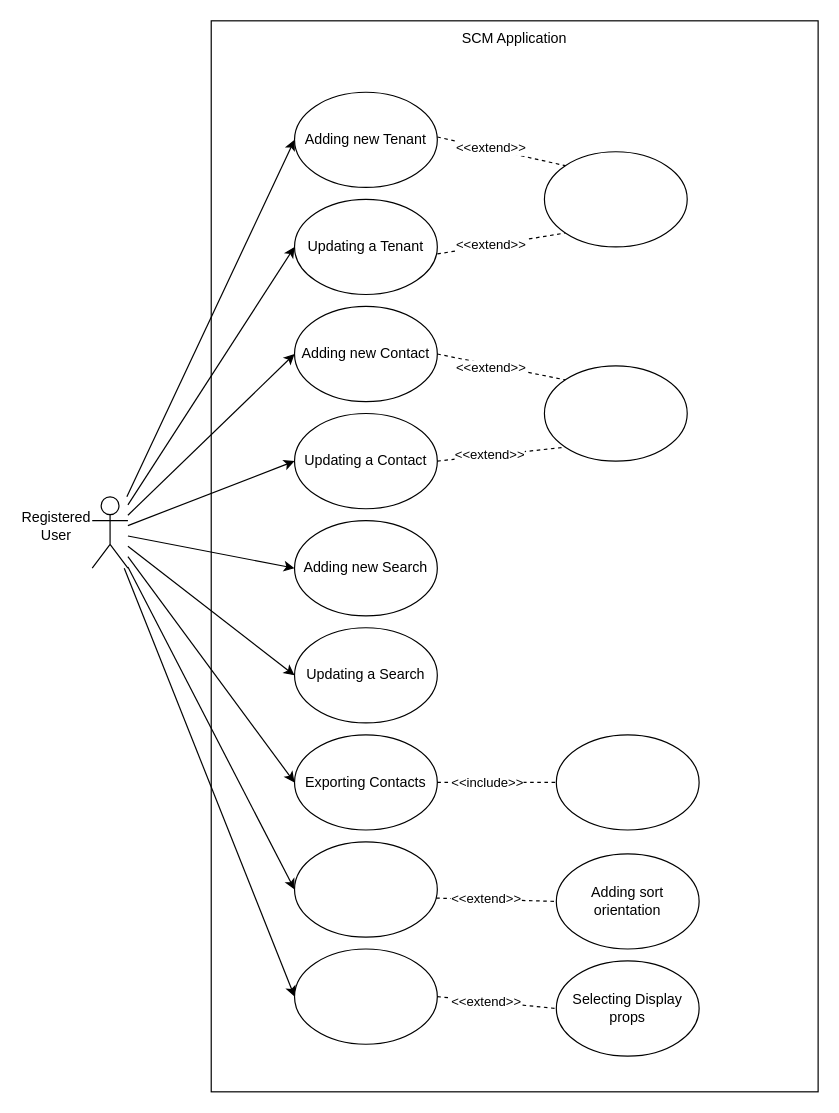
Some shapes in this 839 by 1113 pixel diagram are drawn without their labels. The shapes that lost their labels are listed below. From the top down, each one's centre as x and y in pixels, then its label:
At (615,199): "Adding other users to the Tenant".
At (615,413): "Adding tags, props and comments to Contact".
At (627,782): "Selecting which Contacts to export".
At (365,889): "Filtering Contacts".
At (365,996): "Setting labels for Tenant".
